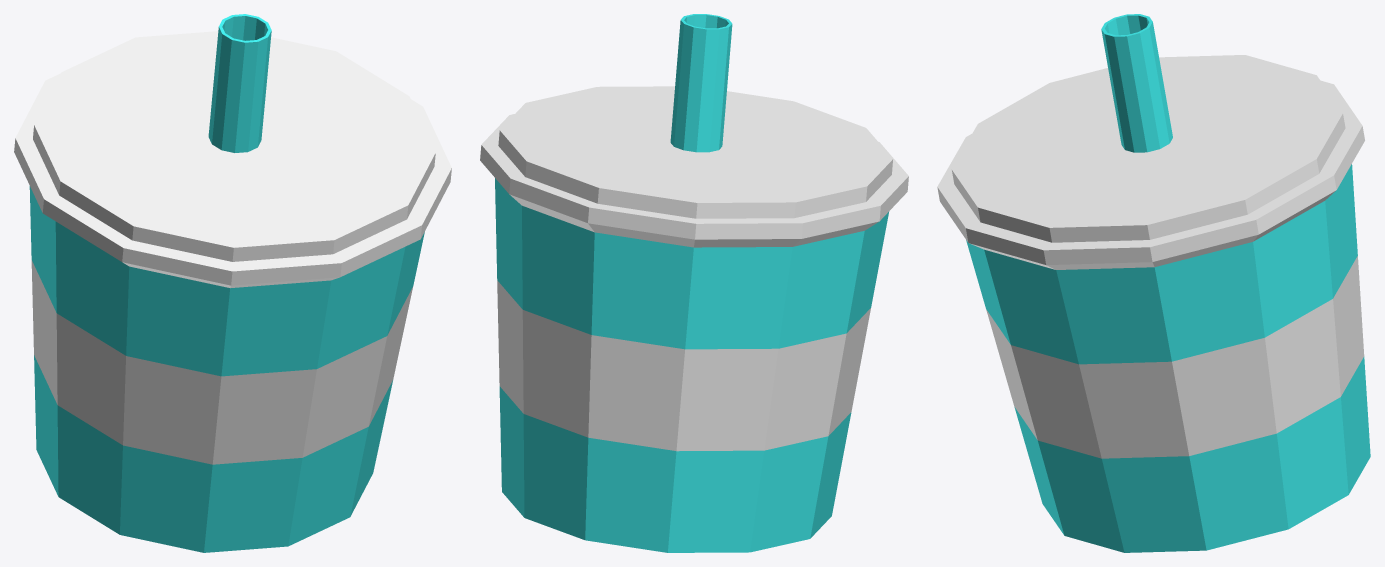
Rendered from sample.gltf.
3 views of the same model, side by side, from view 1: azimuth 30°, elevation 25°; view 2: azimuth 150°, elevation 25°; view 3: azimuth 270°, elevation 25° (orthographic). The views are drawn at different scales.
Visible parts, largest first — view 1: Cup; view 2: Cup; view 3: Cup.
Boxes of the visible parts, x1=… form: Cup: x1=14, y1=14, x2=451, y2=552; Cup: x1=480, y1=14, x2=908, y2=552; Cup: x1=937, y1=14, x2=1370, y2=552.
Size of the model in its own units: 2.59 by 3.2 by 2.61.
